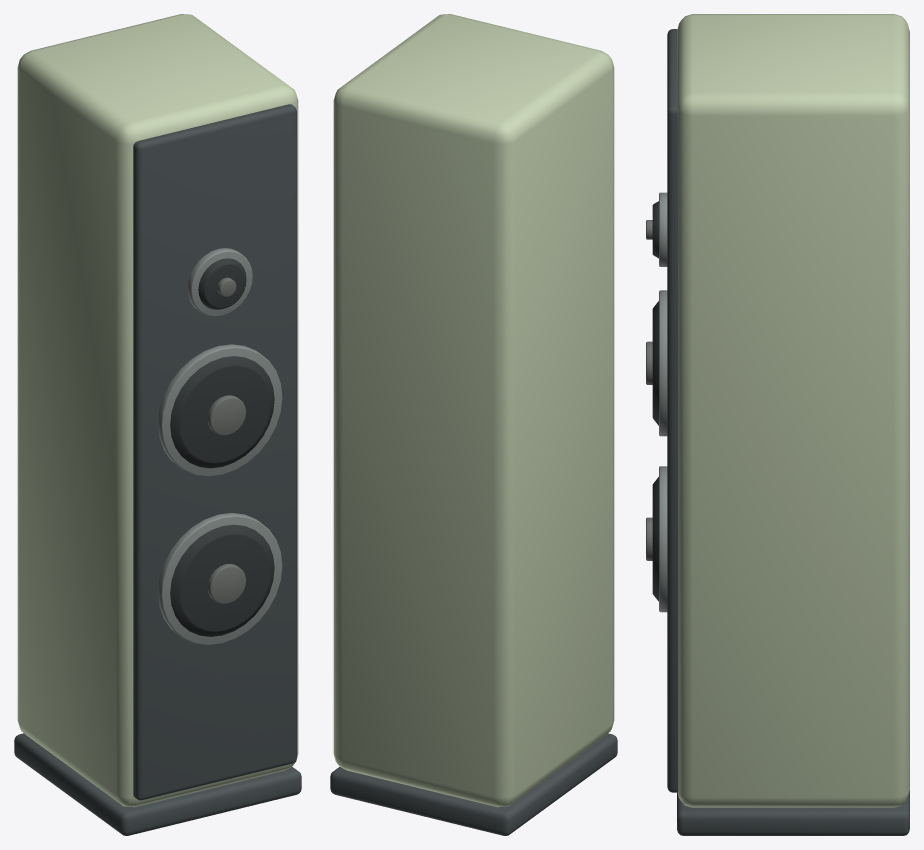
Rendered from tower-speaker.glb.
3 renders of one model, left to right at view 1: azimuth 30°, elevation 25°; view 2: azimuth 150°, elevation 25°; view 3: azimuth 270°, elevation 25°, orthographic. The views are drawn at different scales.
Parts seen in each view (by area): view 1: tower-speaker; view 2: tower-speaker; view 3: tower-speaker.
Part boxes in pixels (x1=…): tower-speaker: x1=14, y1=14, x2=301, y2=835; tower-speaker: x1=330, y1=14, x2=617, y2=835; tower-speaker: x1=646, y1=14, x2=909, y2=835.
Size of the model in its own units: 0.28 by 1.05 by 0.34.
